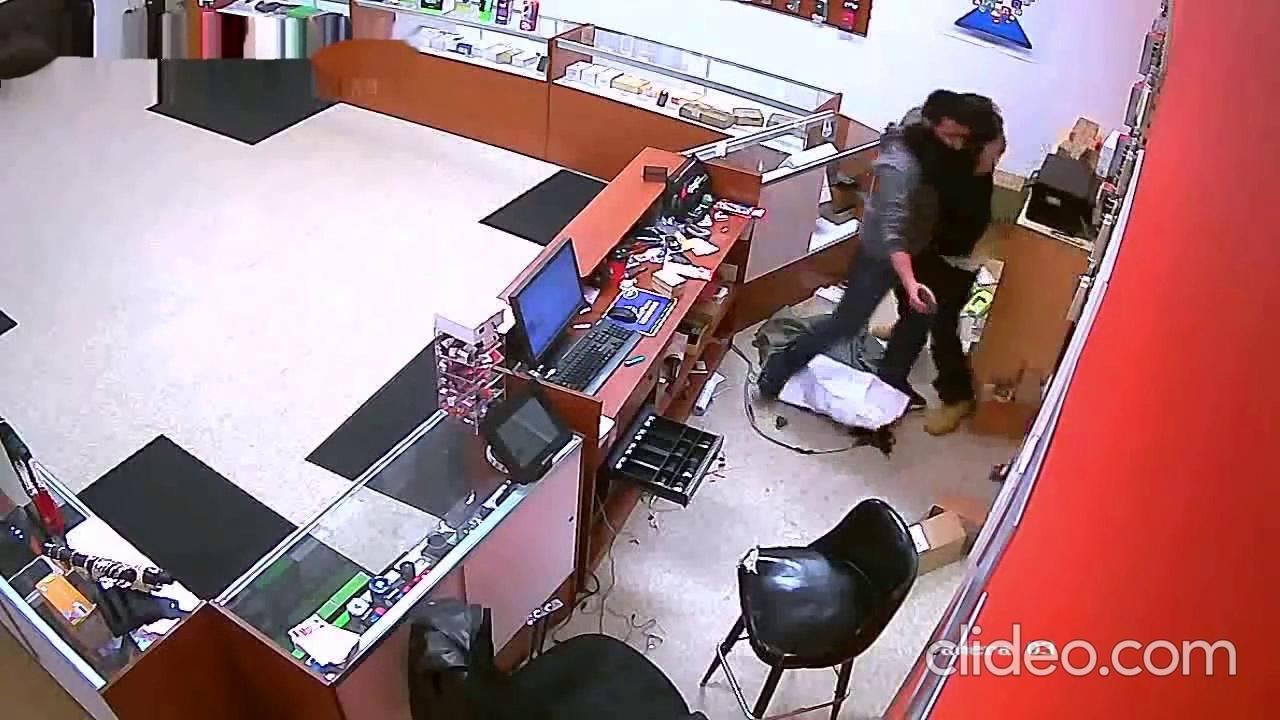person: (755, 89, 1006, 411), (870, 91, 1007, 435)
pistol: (916, 287, 939, 316)
